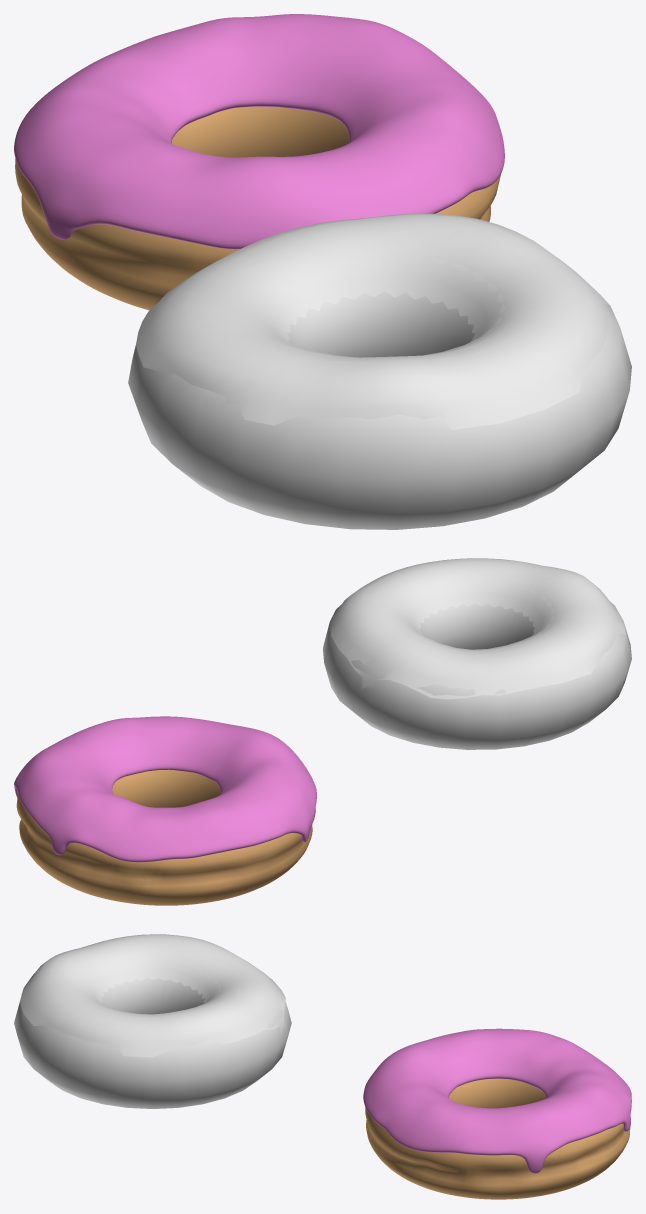
Rendered from donut.glb.
3 renders of one model, top to bottom at view 1: azimuth 30°, elevation 25°; view 2: azimuth 150°, elevation 25°; view 3: azimuth 270°, elevation 25°, orthographic. The views are drawn at different scales.
Parts seen in each view (by area): view 1: icing, Torus.004, Torus.003, donut; view 2: icing, Torus.004, Torus.003, donut; view 3: icing, Torus.004, Torus.003, donut.
Part boxes in pixels (left/top/right/bottom): icing: left=14, top=14, right=504, bottom=249; Torus.004: left=136, top=213, right=609, bottom=429; Torus.003: left=128, top=223, right=631, bottom=529; donut: left=15, top=106, right=500, bottom=310; icing: left=14, top=716, right=316, bottom=862; Torus.004: left=331, top=558, right=625, bottom=699; Torus.003: left=323, top=565, right=631, bottom=749; donut: left=16, top=769, right=315, bottom=905; icing: left=363, top=1028, right=631, bottom=1173; Torus.004: left=20, top=934, right=285, bottom=1059; Torus.003: left=14, top=945, right=291, bottom=1108; donut: left=365, top=1078, right=631, bottom=1199.
Size of what is drawn, in the model's own units: 0.2176 by 0.078 by 0.3381.
